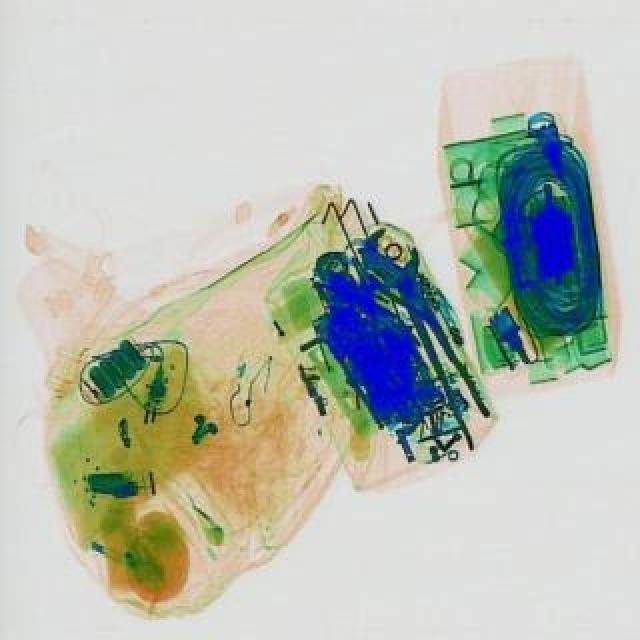scissors: (350, 218, 510, 450)
wrench: (338, 258, 432, 350)
